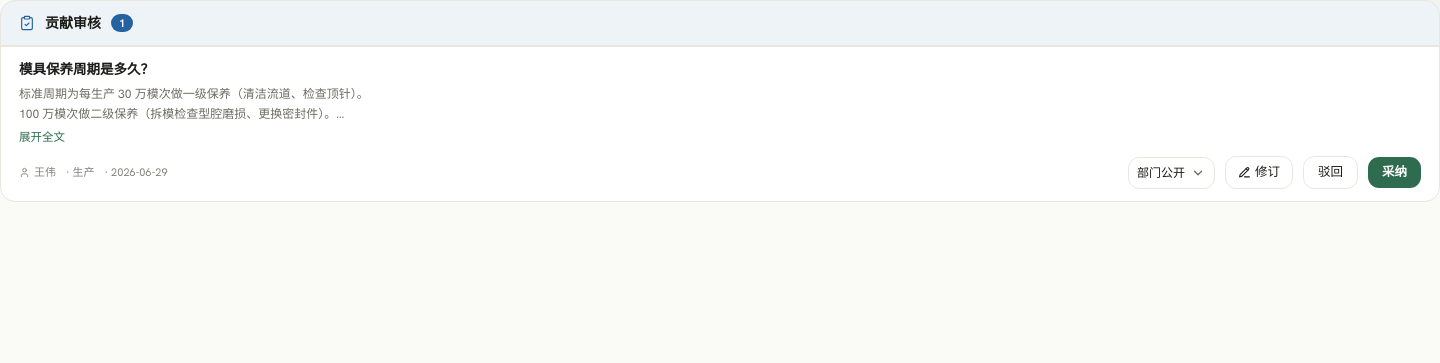
it: B2 采纳前修订 › 取消弃改：再次打开修订 → 字段还原为原值（不残留半改状态）
Click the button with test id "contrib-revise" at (1259,173), box [1225,156,1293,189]
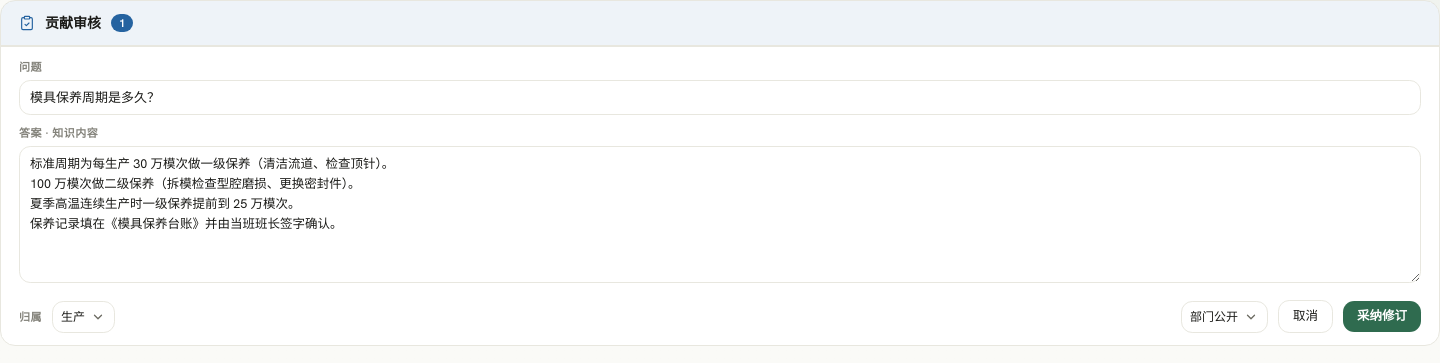
Replace the text in the field with test id "contrib-revise-q" with "被改坏的问题" at (720,97), box [19,80,1421,115]
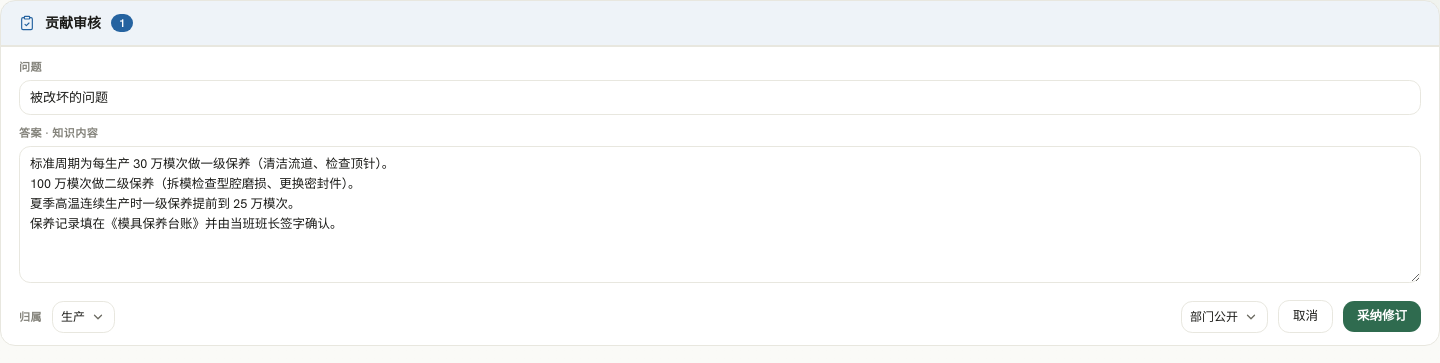
Click the button with test id "contrib-revise-cancel" at (1306,317), box [1278,300,1333,333]
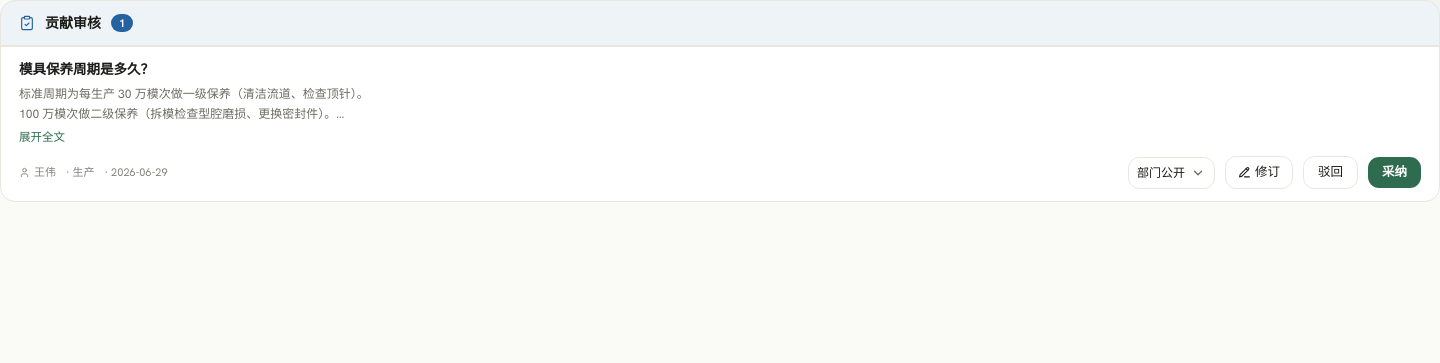
Click the button with test id "contrib-revise" at (1259,173), box [1225,156,1293,189]
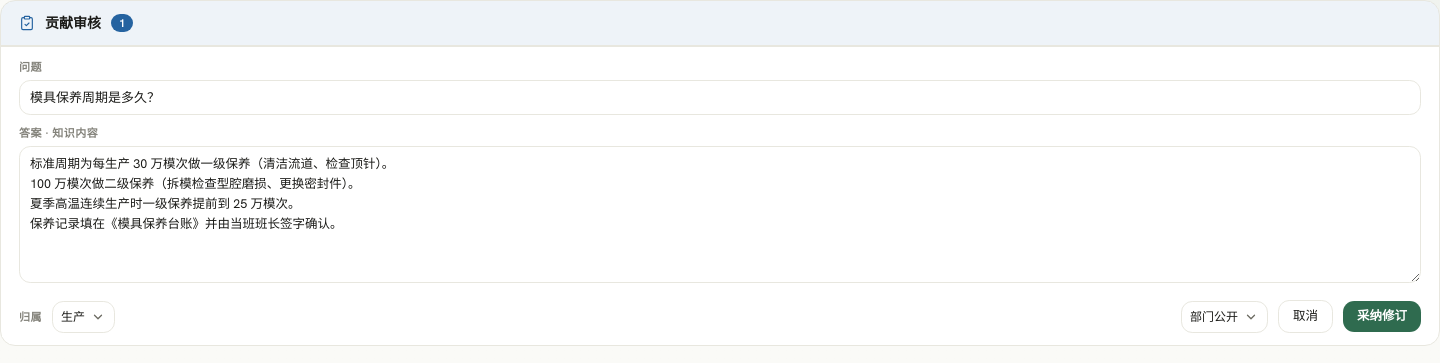
Expected: the field with test id "contrib-revise-q" holds "模具保养周期是多久？", [19,80,1421,115]
